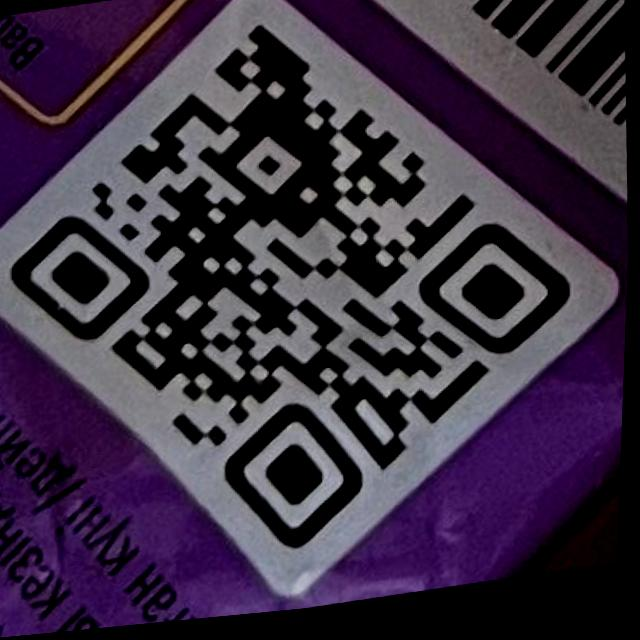QR_CODE: (0, 0, 597, 593)
